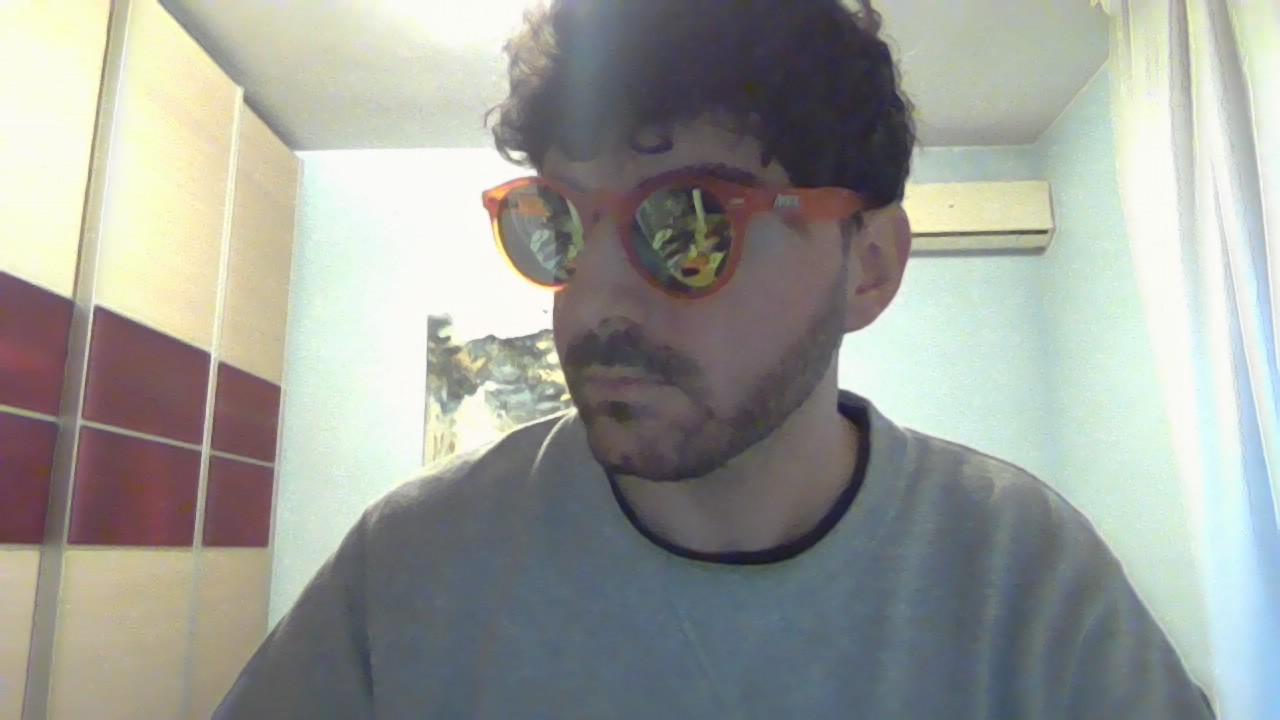Glasses: (472, 163, 893, 304)
